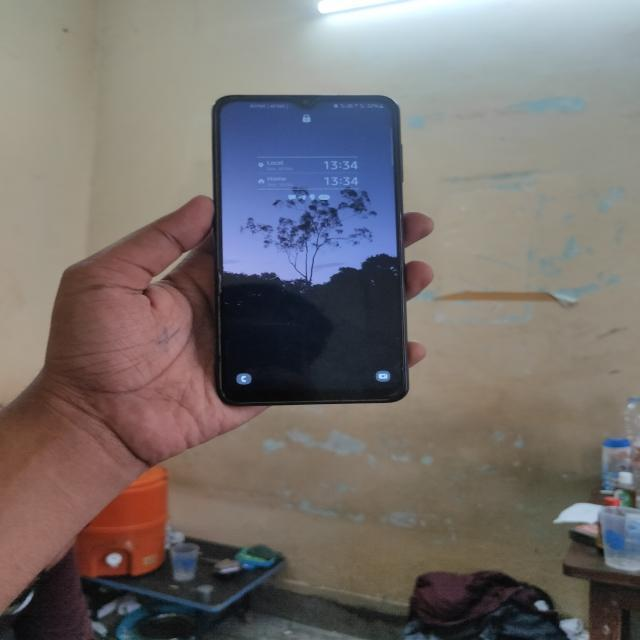Phone: (206, 90, 417, 413)
